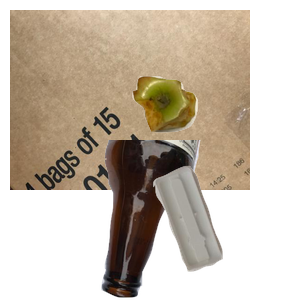cardboard: (10, 10, 250, 190)
glass: (99, 140, 300, 300)
plastic: (150, 163, 300, 300)
trash: (130, 74, 300, 199)
